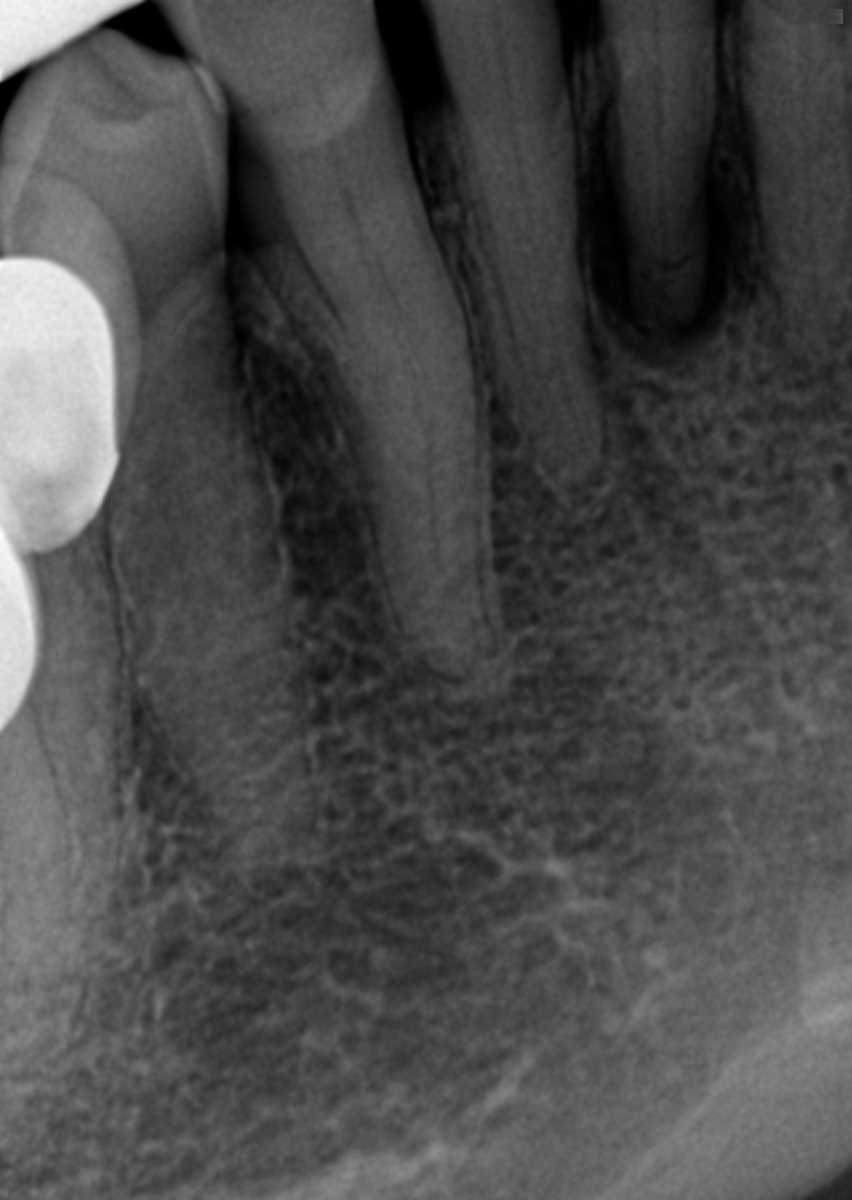Main Canal: (340, 196, 454, 592), (504, 81, 589, 457), (644, 8, 667, 290)
Main Root: (79, 290, 306, 872), (272, 134, 484, 675), (452, 71, 603, 491), (738, 17, 852, 354), (603, 3, 715, 328)
